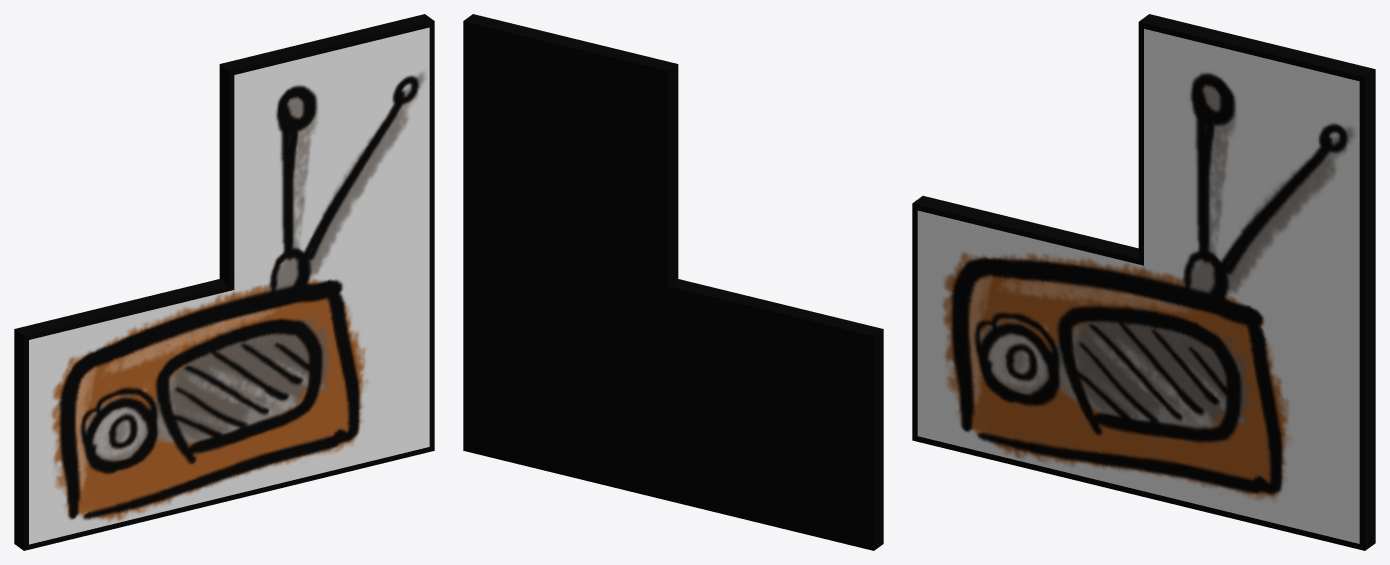
Rendered from mdl_poland_fiat_item4.gltf.
3 renders of one model, left to right at view 1: azimuth 30°, elevation 25°; view 2: azimuth 150°, elevation 25°; view 3: azimuth 330°, elevation 25°, orthographic. The views are drawn at different scales.
Parts seen in each view (by area): view 1: Plane.004; view 2: Plane.004; view 3: Plane.004.
Boxes of the visible parts, x1,y1,x2,y2 form: Plane.004: [14, 14, 434, 550]; Plane.004: [463, 14, 883, 550]; Plane.004: [912, 14, 1375, 550].
Bounding box in the file's own units: 0.8 × 0.8 × 0.0326.
2 materials, 2 textured.
